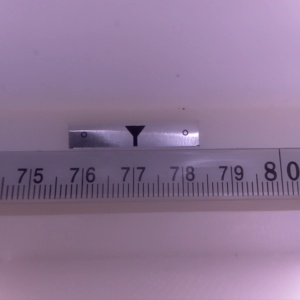0: (285, 161, 300, 181)
5: (32, 168, 43, 184)
6: (85, 167, 95, 184)
7: (15, 168, 27, 184), (68, 168, 79, 184), (119, 166, 129, 183), (135, 166, 145, 182), (168, 166, 178, 181), (217, 166, 227, 181)
8: (263, 161, 276, 181), (185, 166, 195, 181)
9: (233, 166, 243, 181)
finger: (124, 126, 146, 147)
